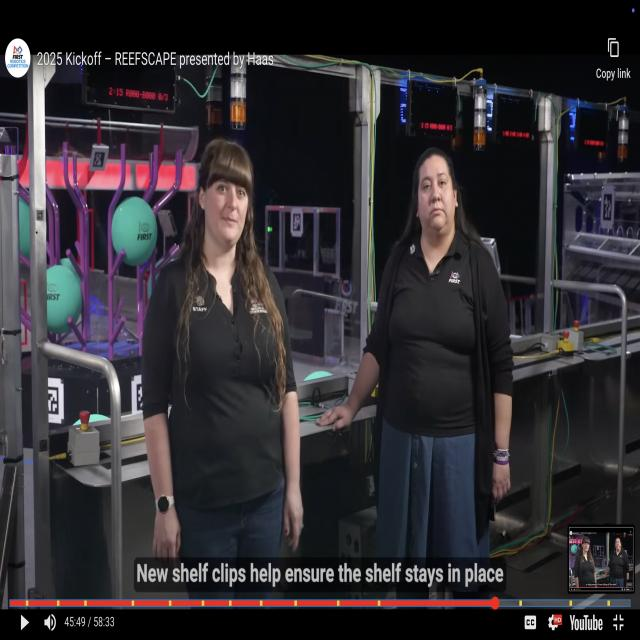algae: (109, 192, 162, 274), (40, 260, 81, 335), (16, 187, 38, 272)
